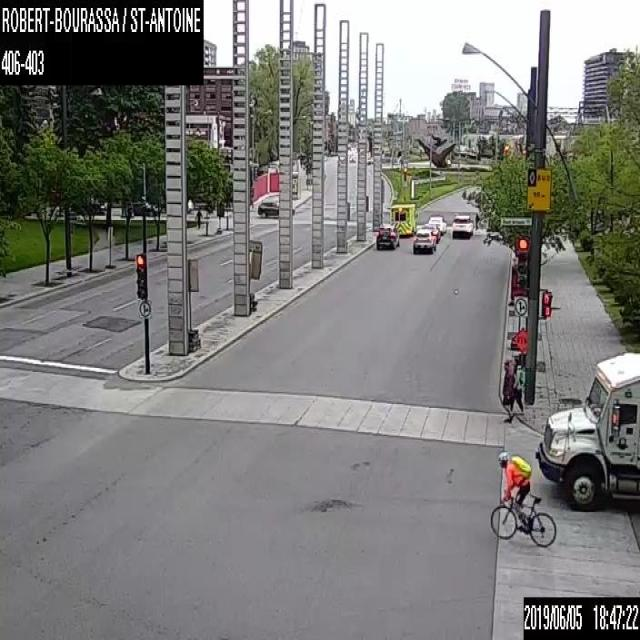construction: (186, 257, 200, 351), (248, 238, 262, 310), (514, 326, 527, 354)
cyclist: (489, 451, 556, 548)
pedestrian: (501, 360, 513, 422), (512, 360, 524, 415), (195, 208, 201, 229), (474, 211, 479, 231)
vehicle: (535, 351, 639, 512), (389, 202, 418, 236), (256, 197, 294, 216), (375, 223, 399, 249), (412, 228, 436, 252), (450, 214, 473, 238), (421, 223, 440, 243), (428, 215, 446, 235), (348, 154, 356, 161), (366, 156, 372, 163)
